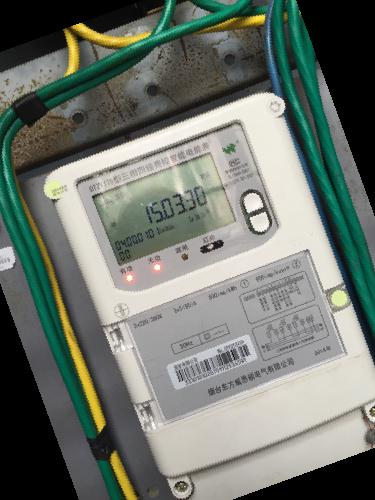digital: (47, 92, 375, 474)
